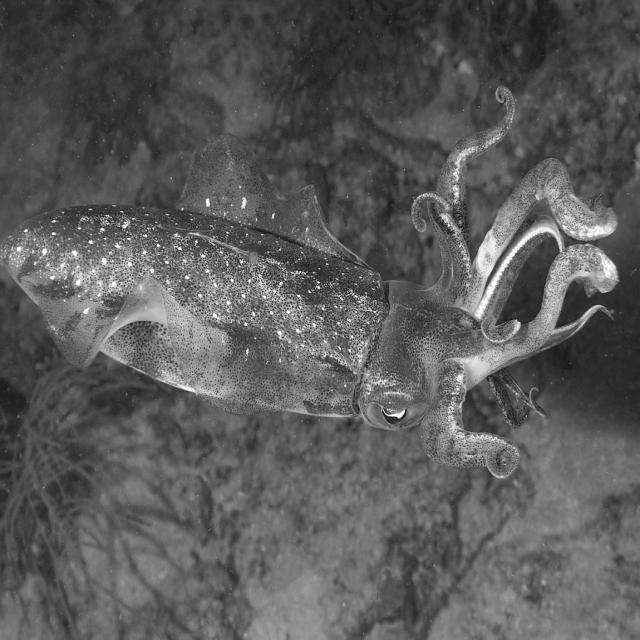SQUID: (0, 159, 640, 487)
